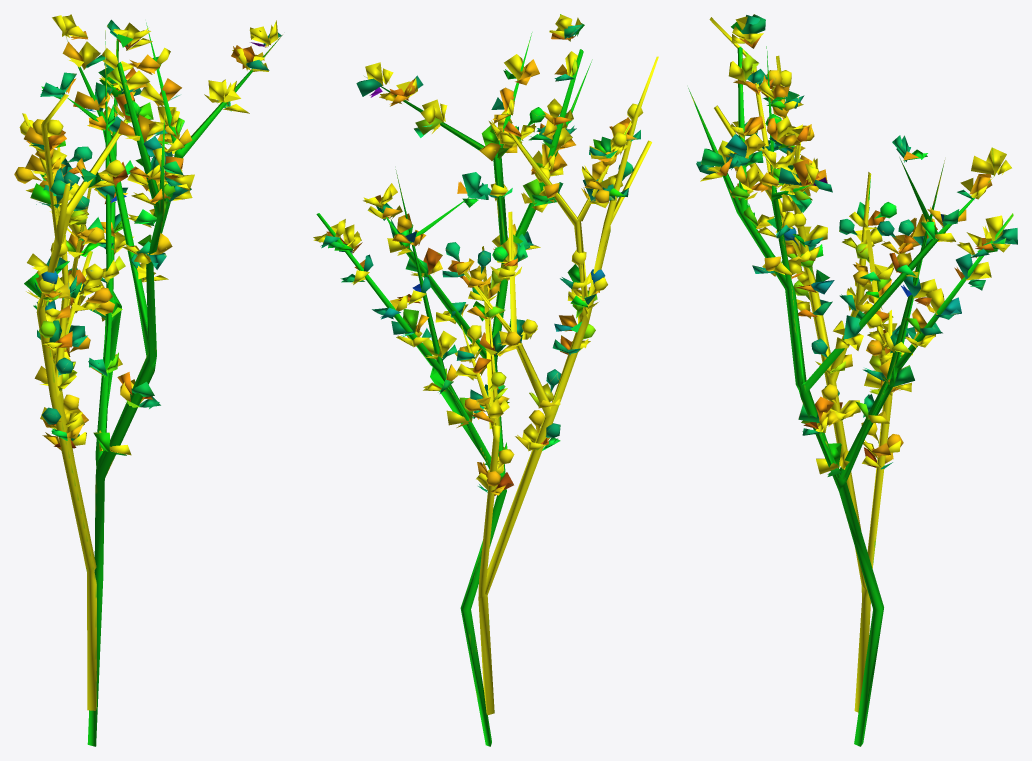
File: TIPUProjectile.fbx
3 renders of one model, left to right at view 1: azimuth 30°, elevation 25°; view 2: azimuth 150°, elevation 25°; view 3: azimuth 270°, elevation 25°, orthographic. The views are drawn at different scales.
Parts seen in each view (by area): view 1: Projectile_DaminsqueDecimated; view 2: Projectile_DaminsqueDecimated; view 3: Projectile_DaminsqueDecimated.
Boxes of the visible parts, bbox=[...] form: Projectile_DaminsqueDecimated: bbox=[14, 14, 282, 746]; Projectile_DaminsqueDecimated: bbox=[313, 14, 658, 746]; Projectile_DaminsqueDecimated: bbox=[688, 14, 1017, 746].
Size of the model in its own units: 13.12 by 33.97 by 14.31.
